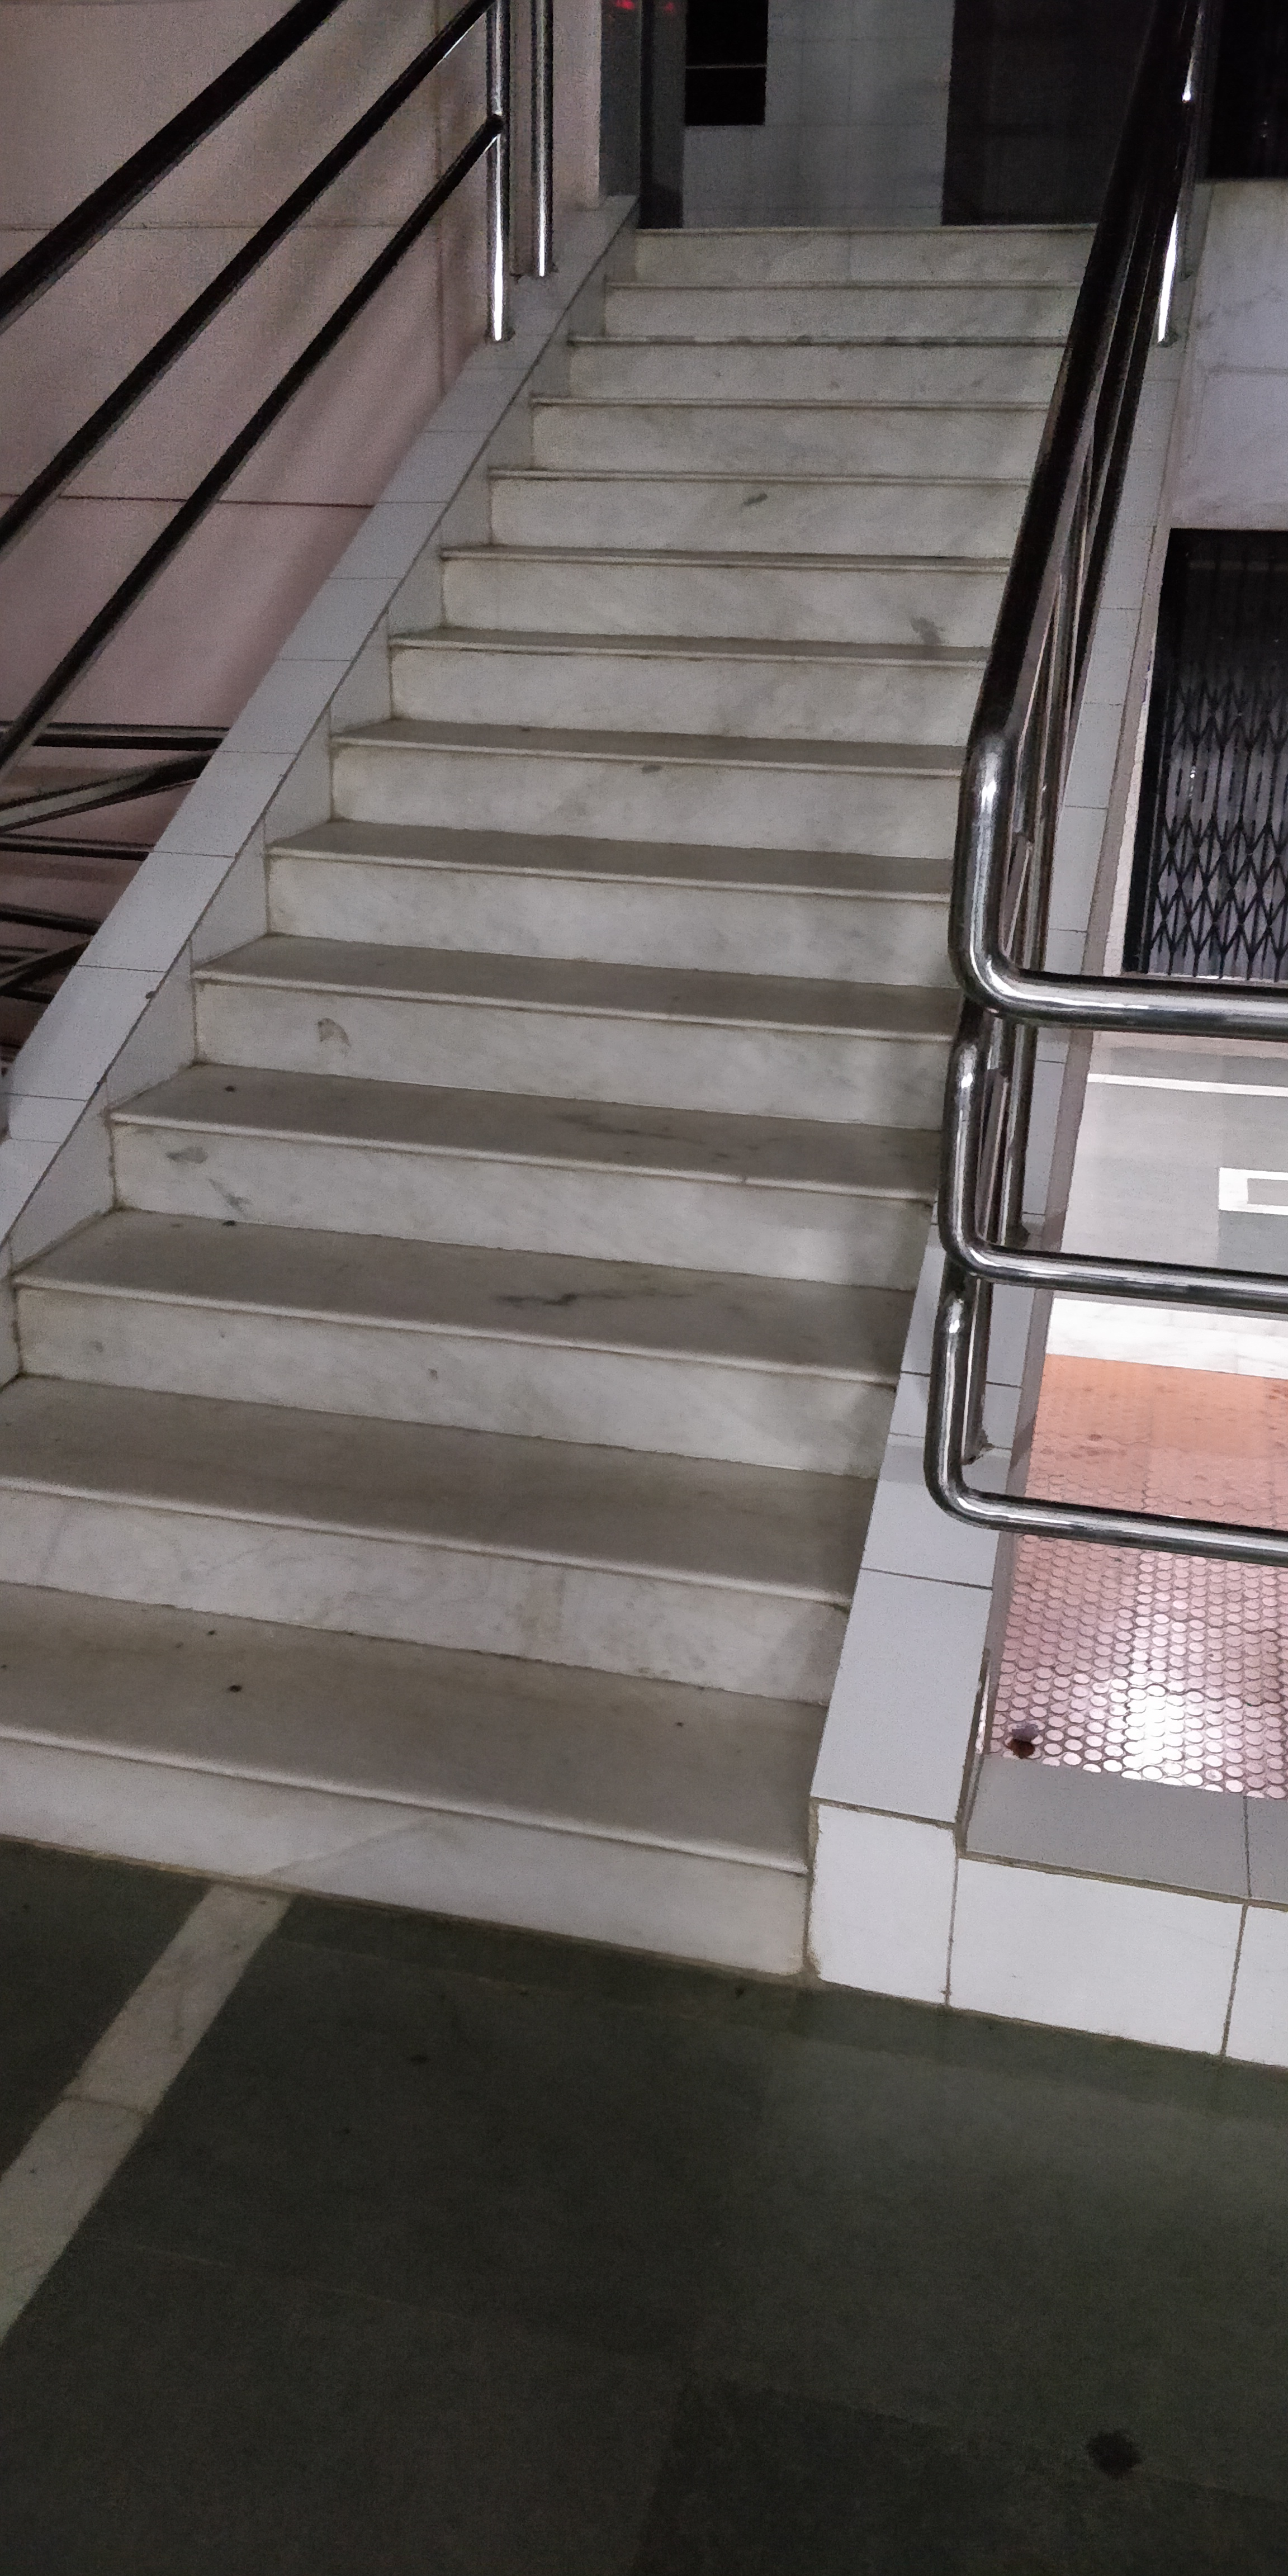stairs_up: (12, 195, 1134, 2032)
